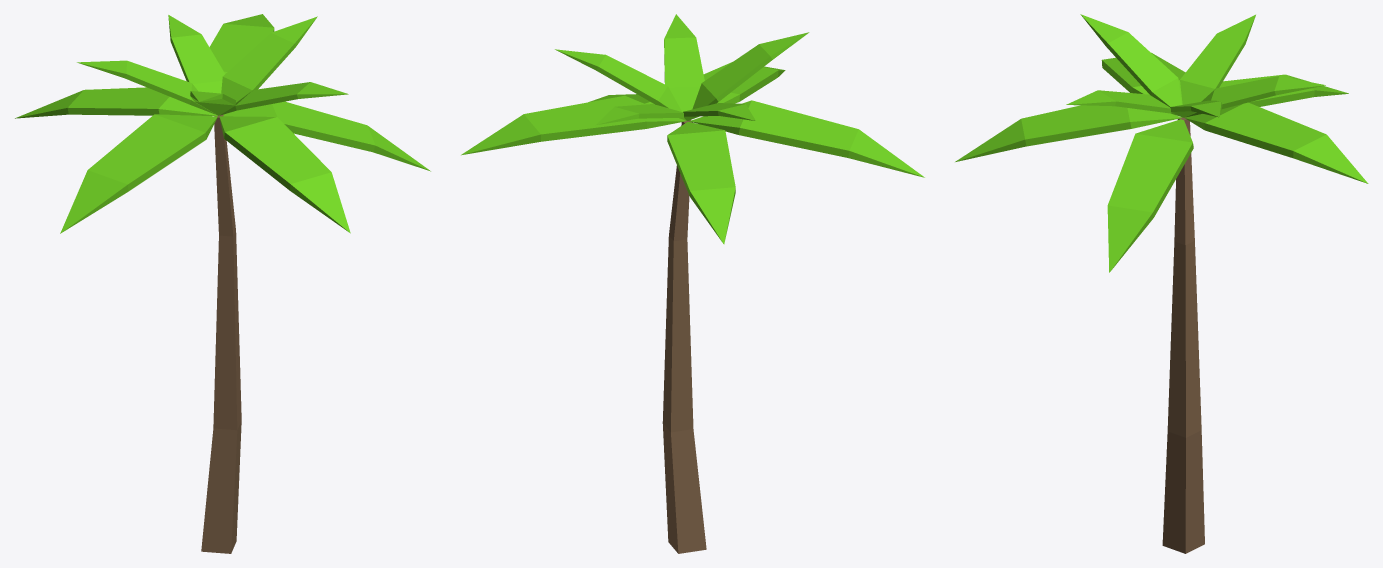
File: Tree_03.fbx
The picture shows the model from 3 angles, left to right: view 1: azimuth 30°, elevation 25°; view 2: azimuth 150°, elevation 25°; view 3: azimuth 270°, elevation 25°; orthographic projection.
Visible parts, largest first — view 1: Tree_03; view 2: Tree_03; view 3: Tree_03.
Part boxes in pixels (x1=…): Tree_03: x1=15, y1=14, x2=430, y2=553; Tree_03: x1=461, y1=14, x2=924, y2=553; Tree_03: x1=955, y1=14, x2=1368, y2=553.
Bounding box in the file's own units: 411 × 523 × 396.
